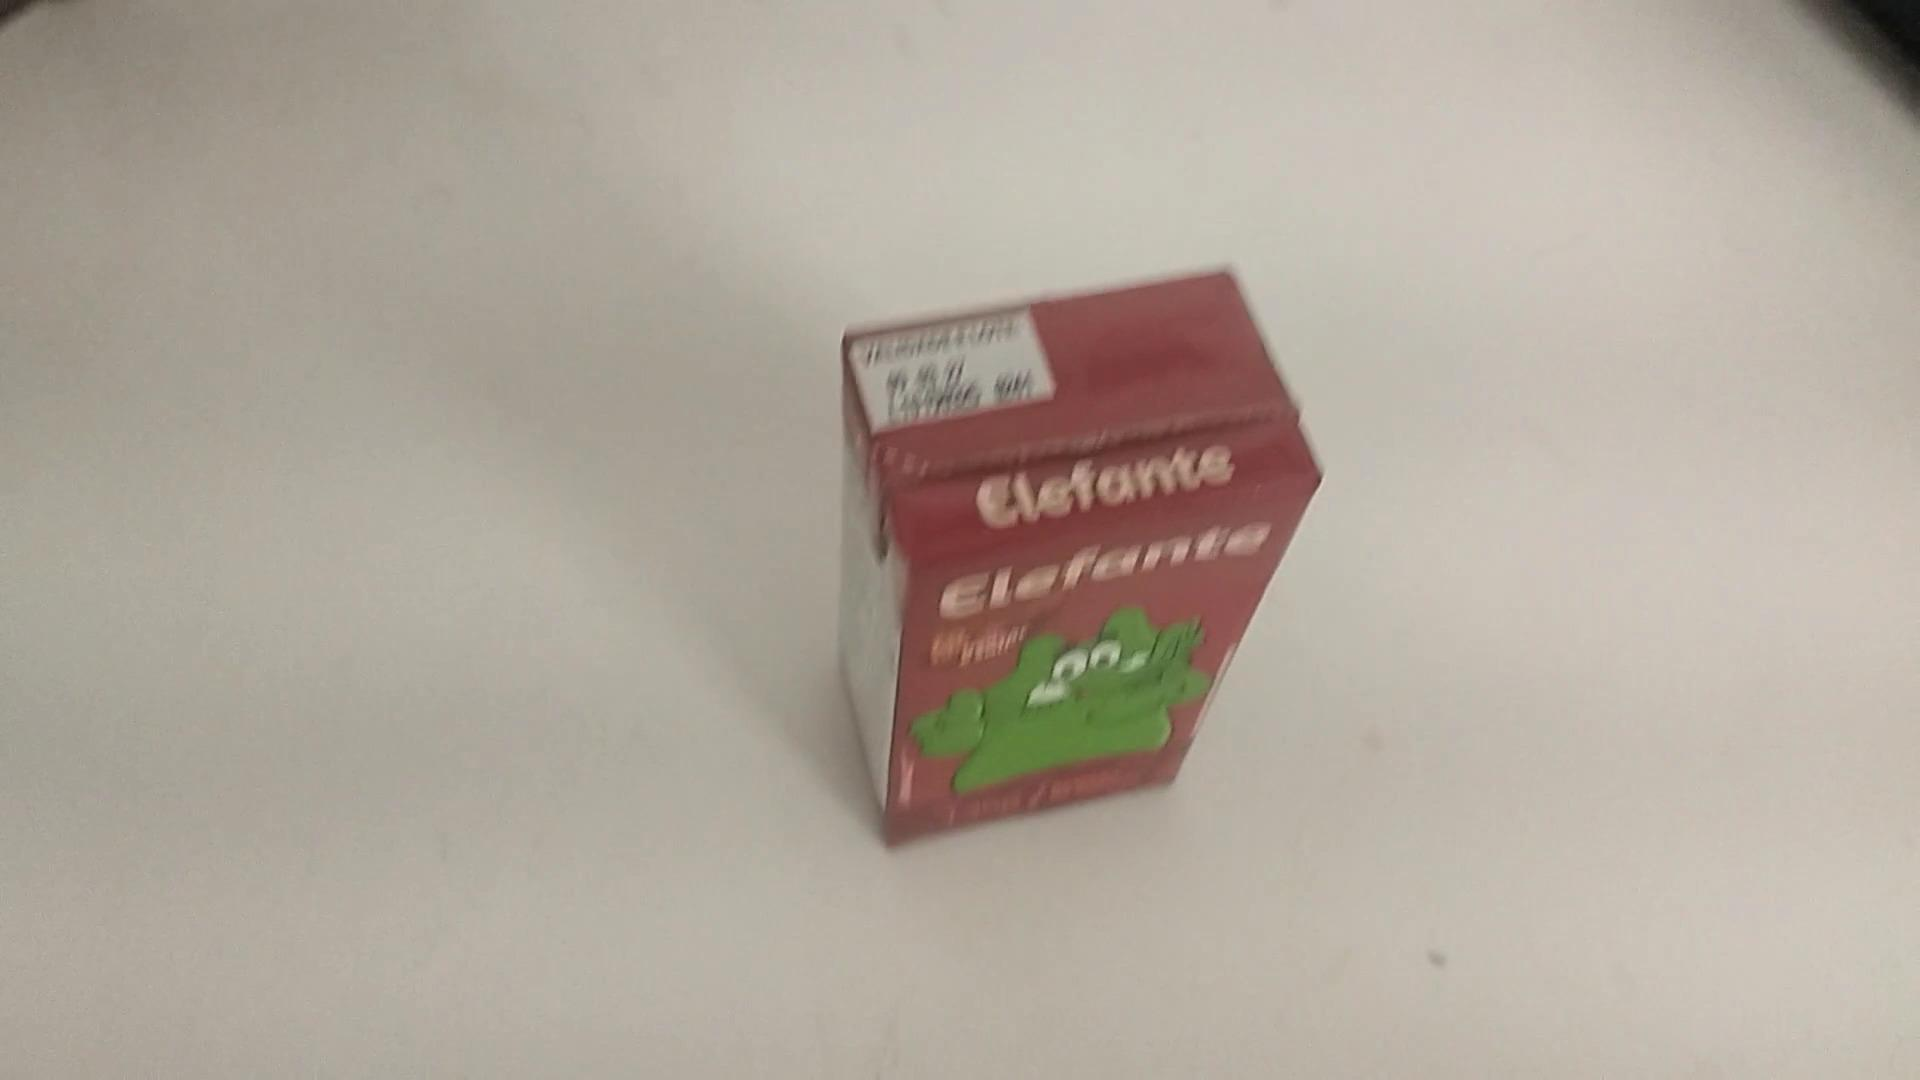tomate: (816, 256, 1324, 849)
